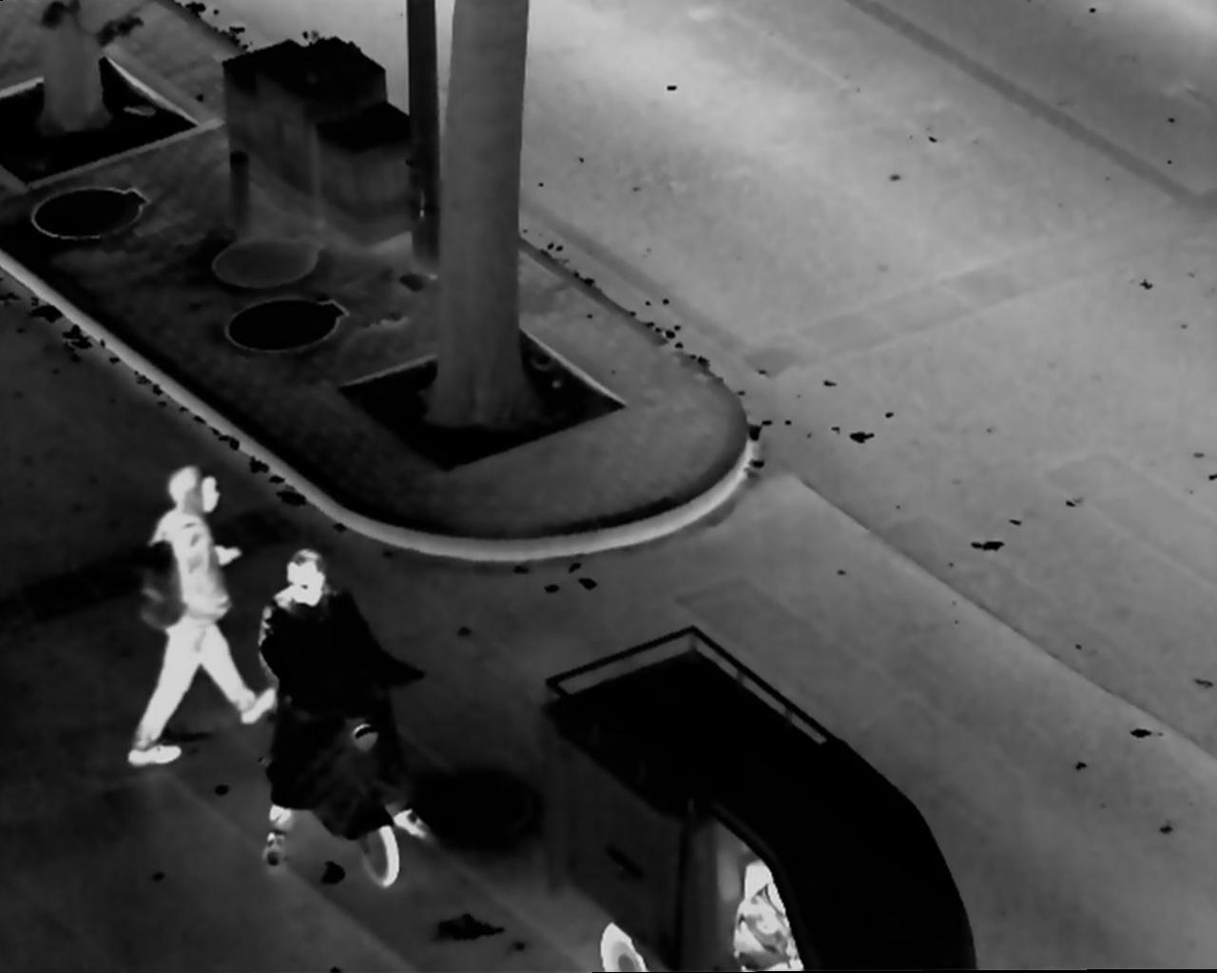person: (258, 546, 434, 856), (123, 450, 263, 768), (723, 856, 812, 973)
